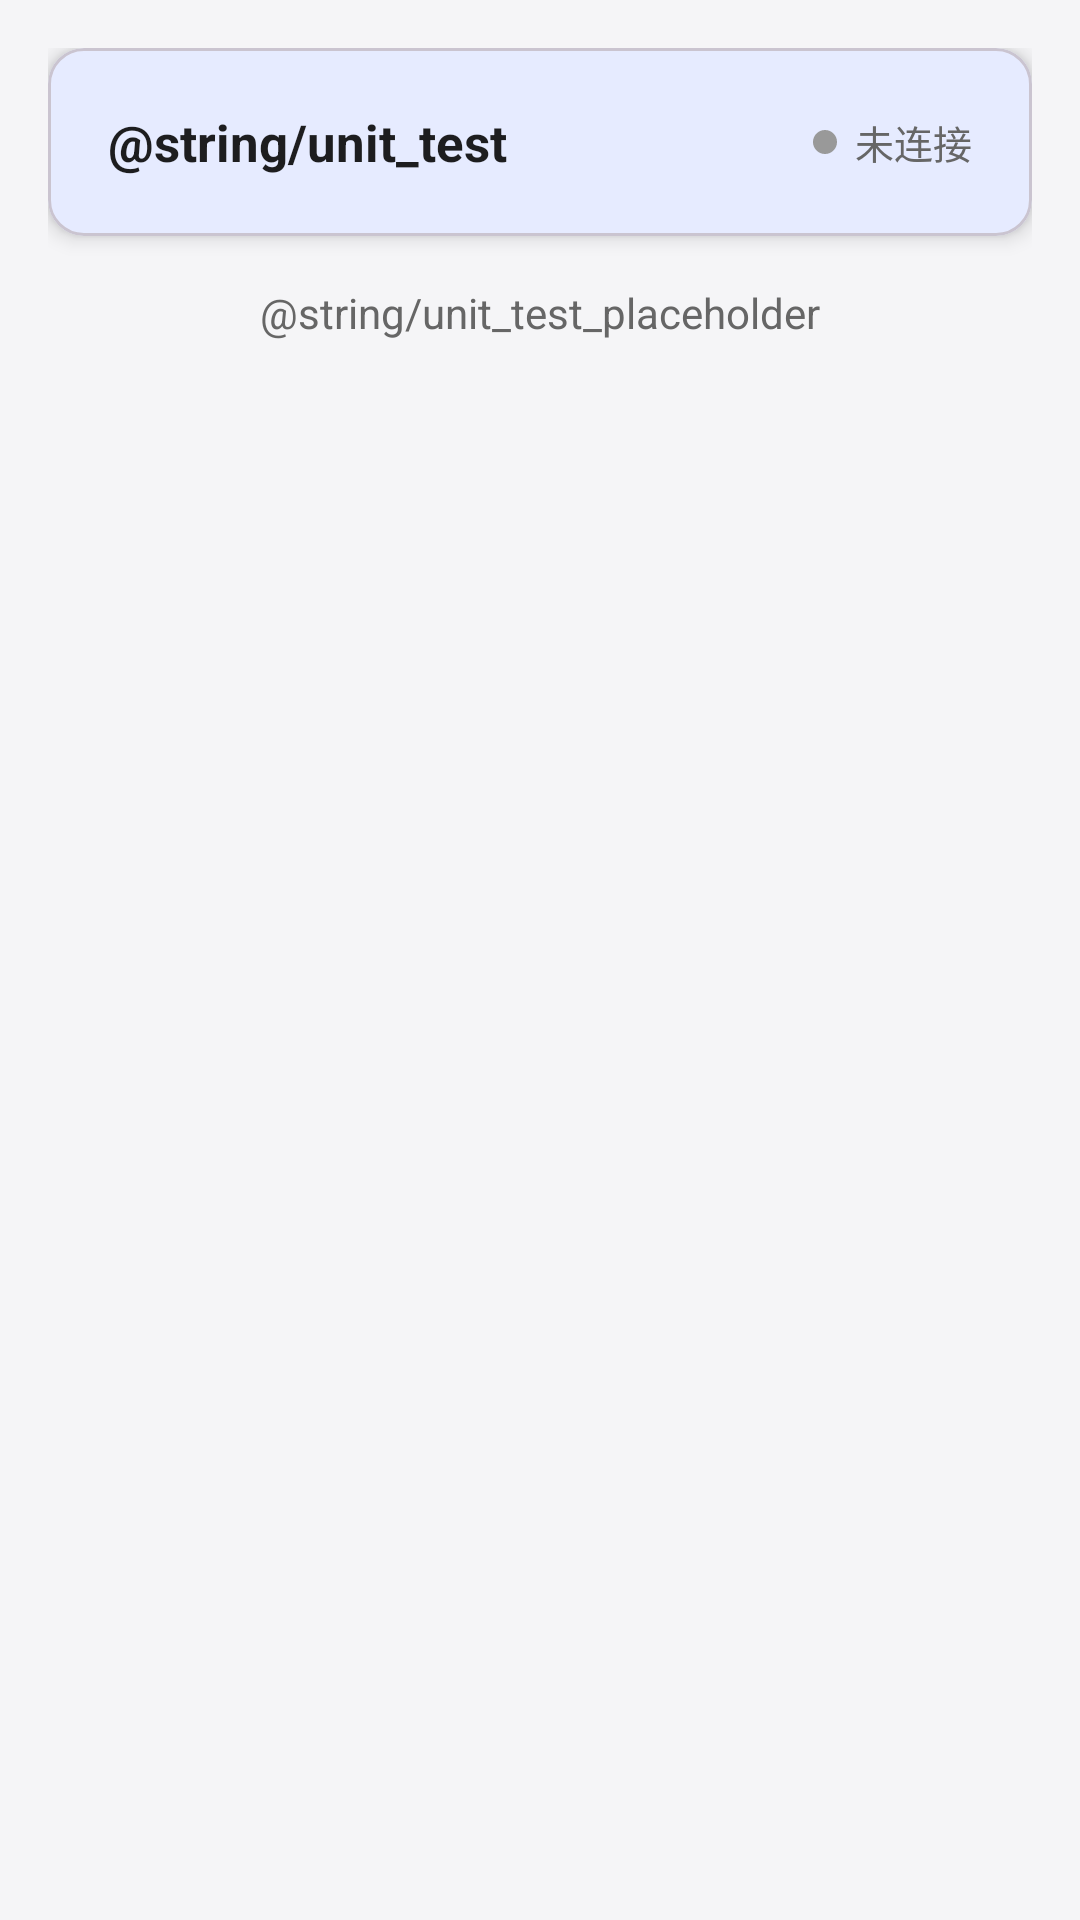

Icons on this 1080x1920 Android screen, each with its box as (x1, y1, x2, y2):
demo connection dot: (813, 130, 837, 154)
